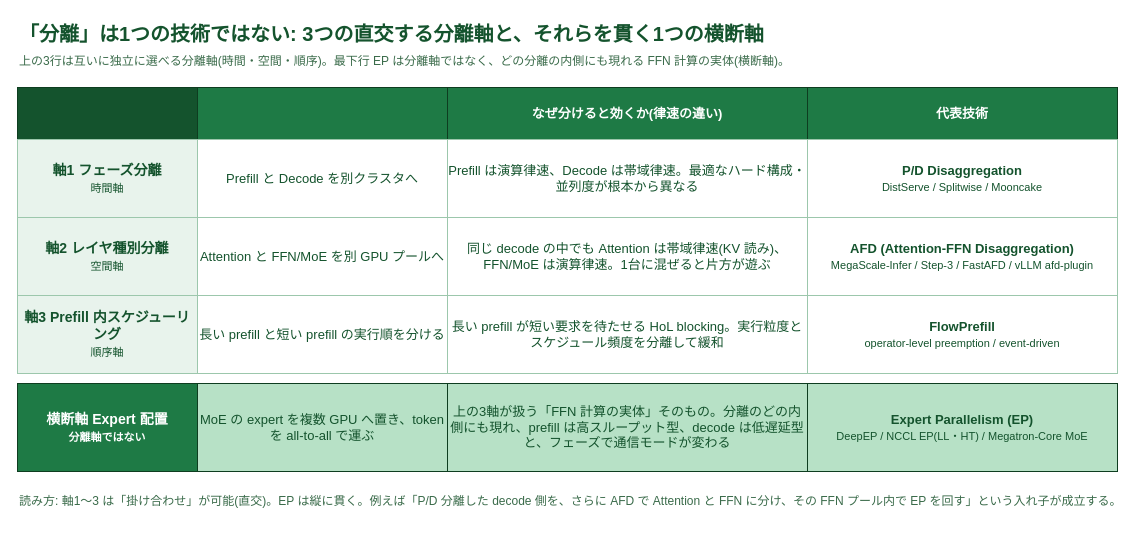
Some shapes in this 1139 by 538 pixel diagram are drawn without their labels. The shapes that lost their labels are listed below. From the top down, each one's centre as x and y in pixels, then its label:
At (107,113): "分離軸".
At (322,113): "何を分けるか".
